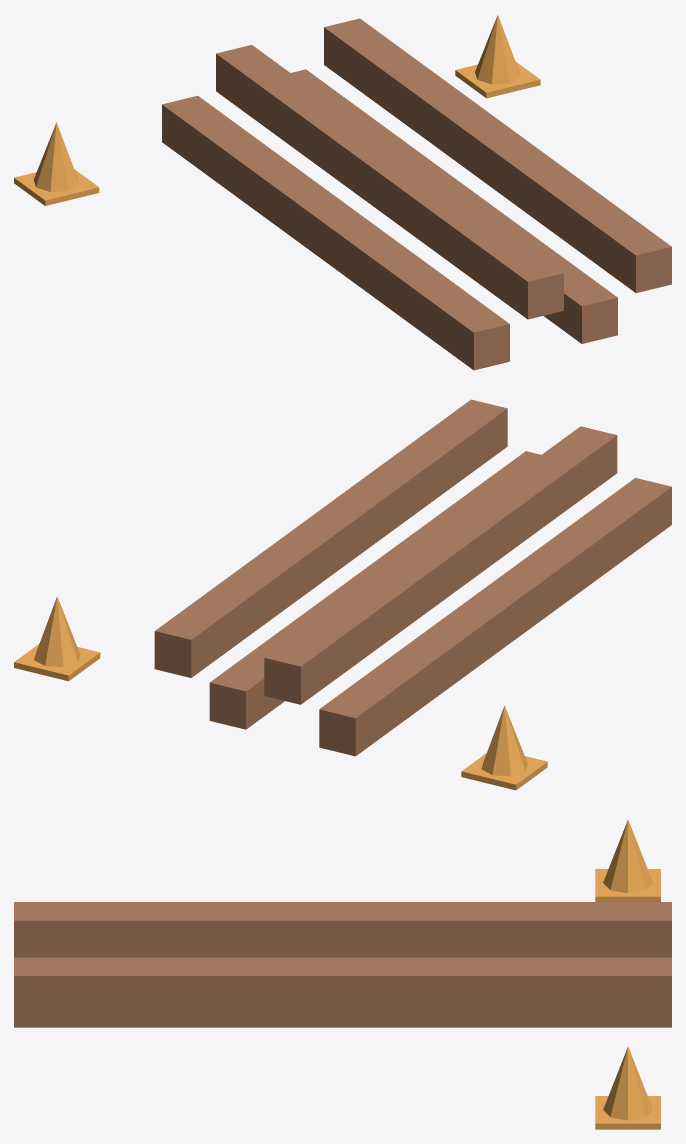
The model's file is girders.glb.
3 views of the same model, one above another, from view 1: azimuth 30°, elevation 25°; view 2: azimuth 150°, elevation 25°; view 3: azimuth 270°, elevation 25° (orthographic). The views are drawn at different scales.
Parts seen in each view (by area): view 1: girders; view 2: girders; view 3: girders.
Part boxes in pixels (left/top/right/bottom): girders: left=14, top=15, right=671, bottom=370; girders: left=14, top=399, right=671, bottom=790; girders: left=14, top=819, right=671, bottom=1129.
Size of the model in its own units: 5.5 by 0.8 by 6.
